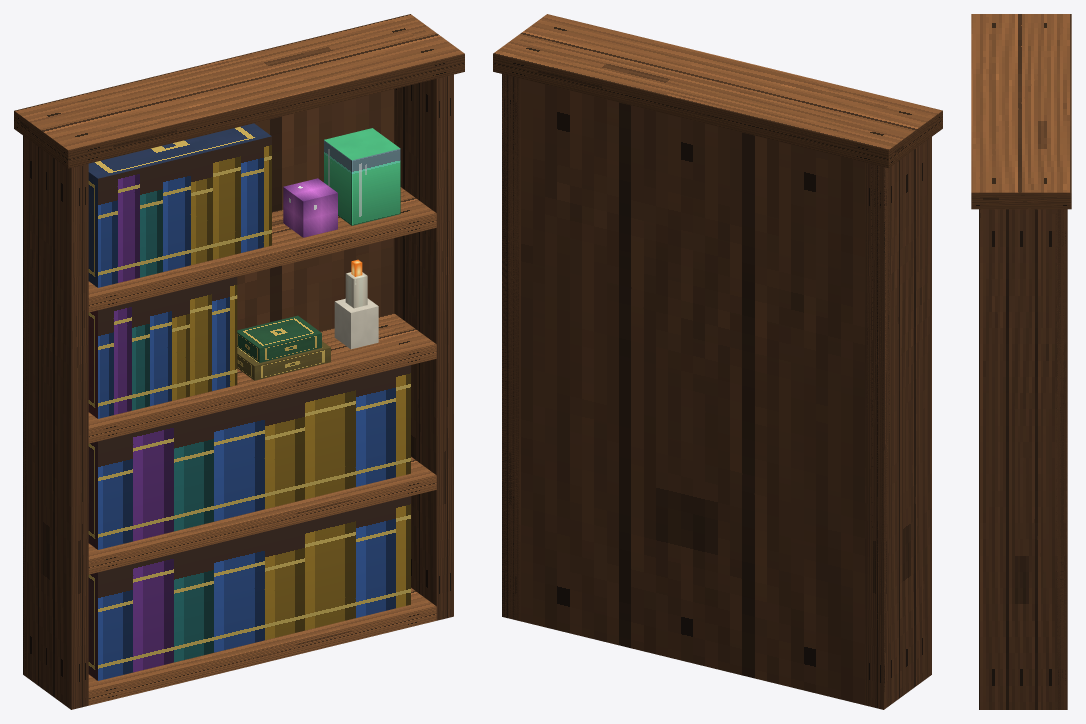
Rendered from bookshelf.glb.
3 renders of one model, left to right at view 1: azimuth 30°, elevation 25°; view 2: azimuth 150°, elevation 25°; view 3: azimuth 270°, elevation 25°, orthographic. The views are drawn at different scales.
Visible parts, largest first — view 1: root; view 2: root; view 3: root.
Boxes of the visible parts, box(x1,y1,x2,y2) form: root: box(14, 14, 464, 709); root: box(493, 14, 942, 709); root: box(971, 14, 1071, 709).
Size of the model in its own units: 154 by 209 by 36.45.
Materials: 2 (2 with a texture image).
